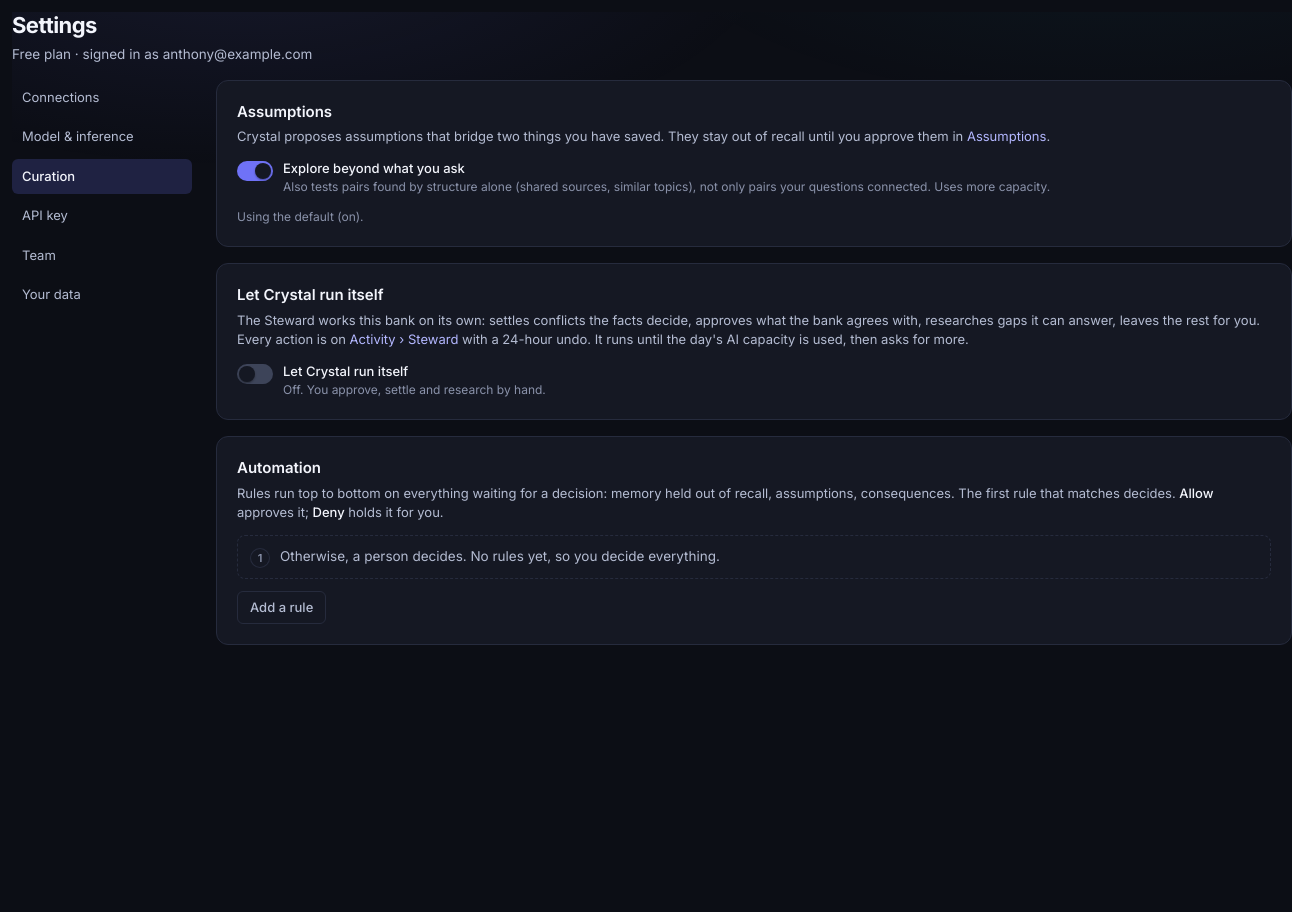
Test: Settings (Refine PR 9) › Curation: the Steward switch flips and shows the refill ask when paused
Expected: the text "Off. You approve, settle and research by hand." is shown, x1=283 y1=381 x2=546 y2=399
Click the switch named "Let Crystal run itself": (255, 374) x1=237 y1=364 x2=273 y2=384
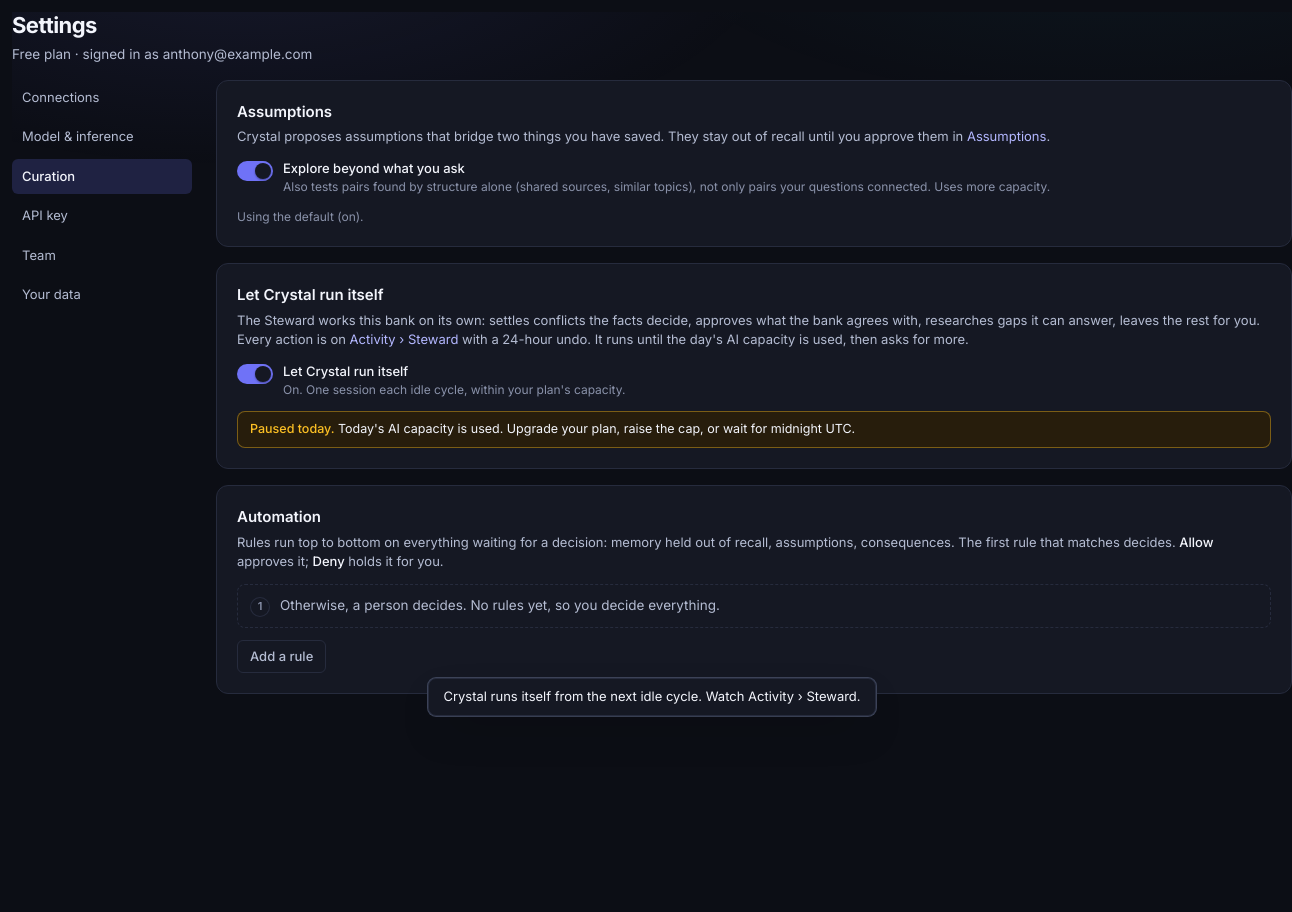
Result: the text "Today's AI capacity is used" is shown at x1=338 y1=421 x2=855 y2=436
